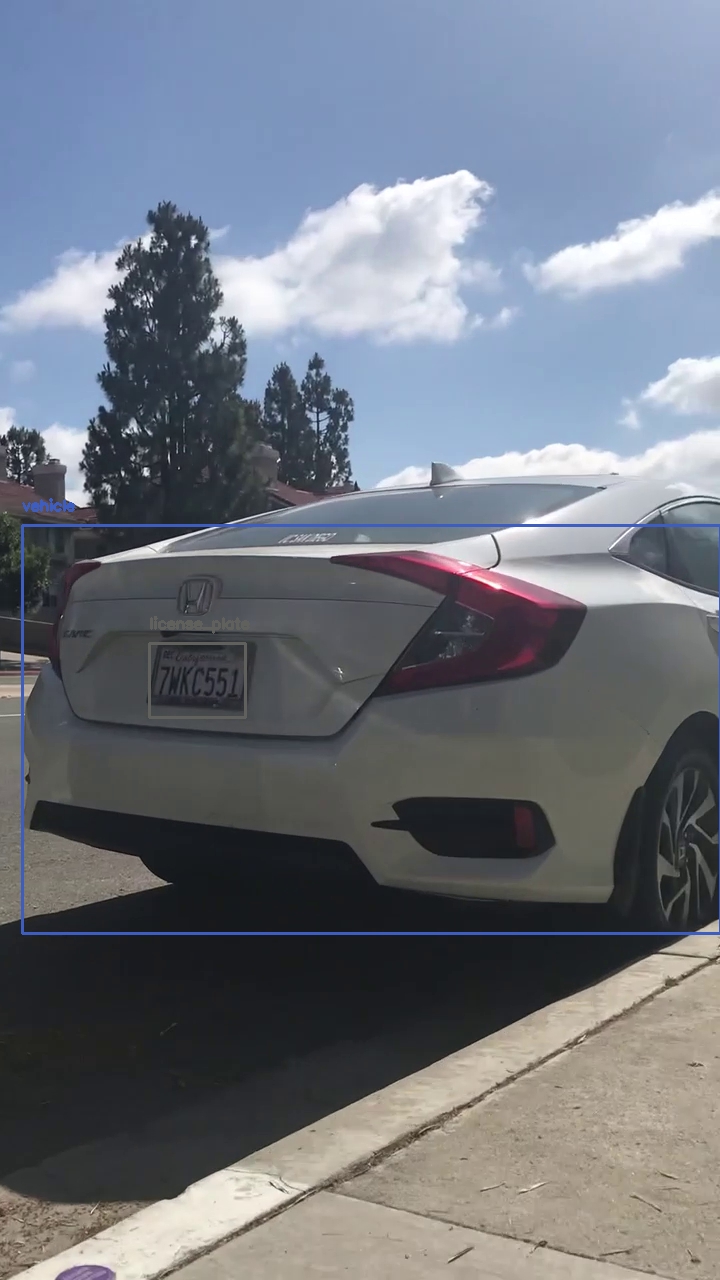license_plate: (149, 643, 245, 717)
vehicle: (22, 525, 720, 933)
